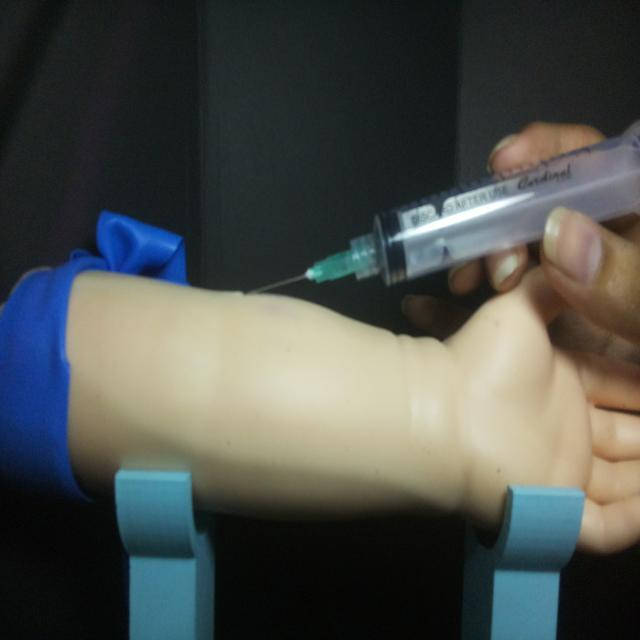18deg: (243, 117, 638, 300)
